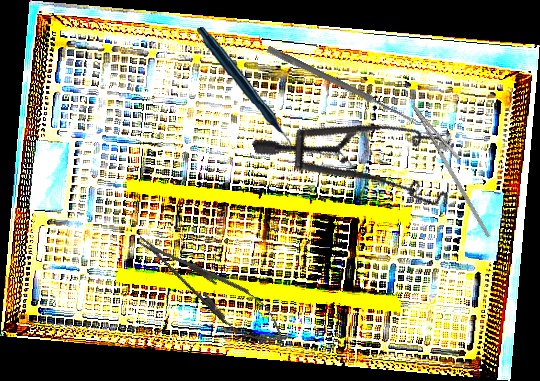Handpiece: (196, 24, 292, 156)
Needle Holder: (127, 221, 297, 358), (396, 96, 515, 239)
Speculum: (251, 74, 474, 264)
Surgical Spoon: (265, 45, 421, 127)
